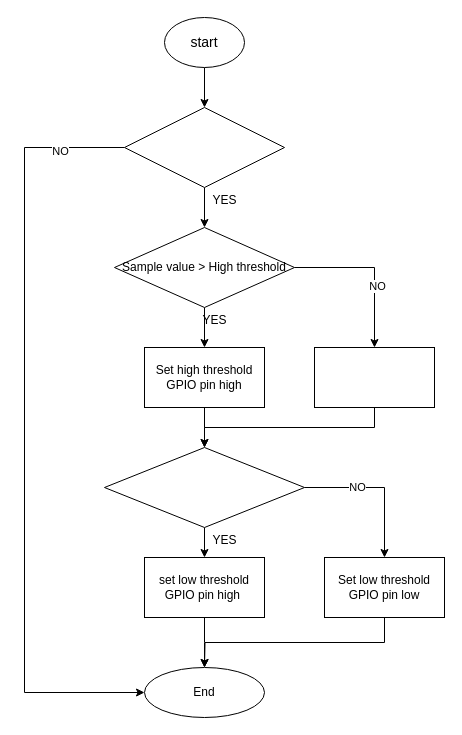
The diagram is 462 pixels wide and 735 high, and some of its shapes have lost their labels. The centre of each missing label's shape, as x and y in pixels:
"Is comparator enabled?" belongs at (204,147).
"Sample Value< Low threshold" belongs at (204,487).
"Set high threshold GPIO pin low" belongs at (374,377).
